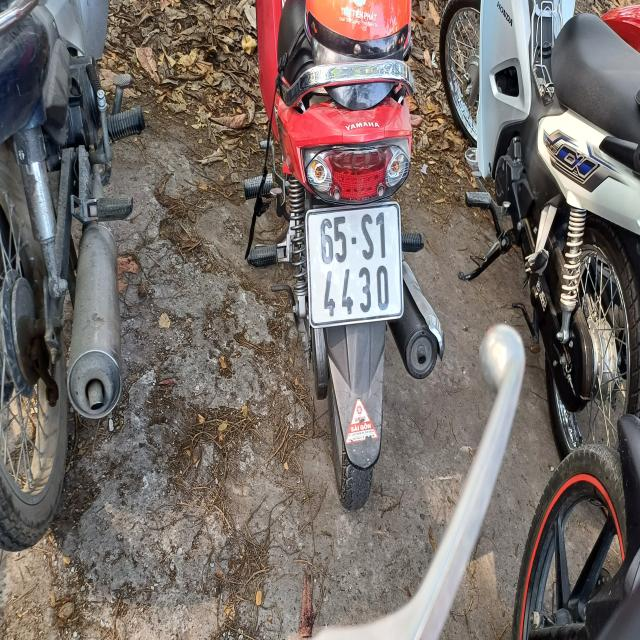0: (375, 267, 390, 312)
1: (377, 212, 388, 260)
3: (359, 268, 373, 314)
4: (323, 270, 338, 319), (342, 268, 355, 314)
5: (335, 216, 349, 263)
6: (317, 218, 333, 266)
S: (360, 210, 375, 262)
